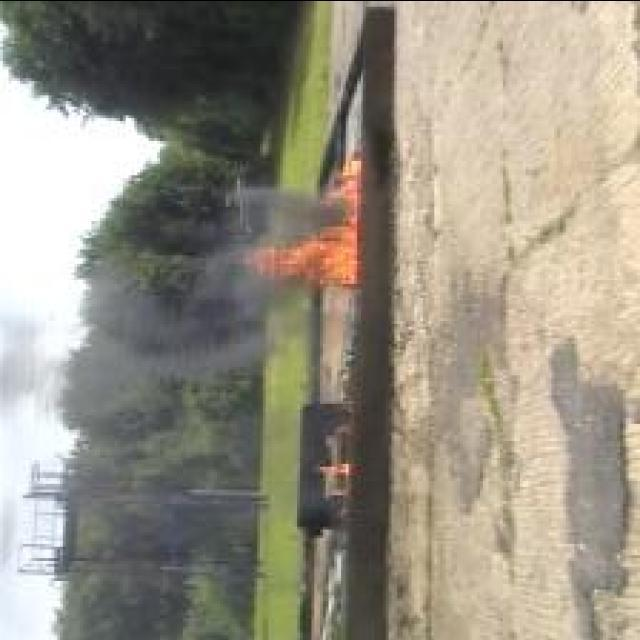Fire: (248, 157, 360, 283)
